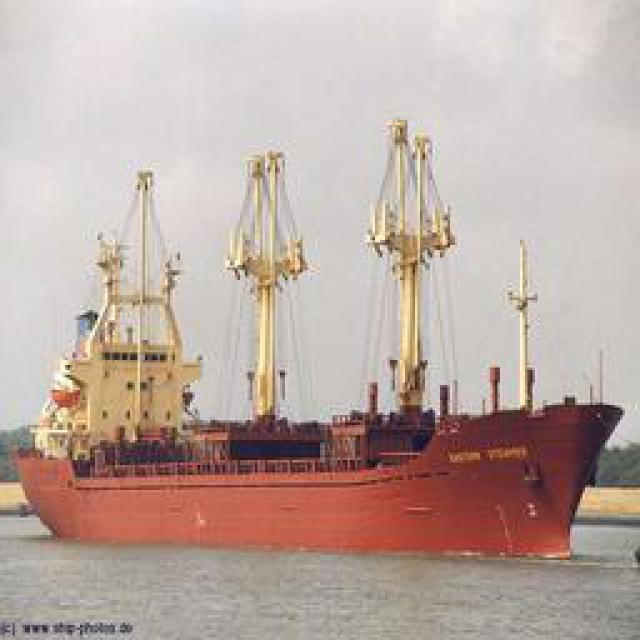Ship: (10, 404, 630, 564)
